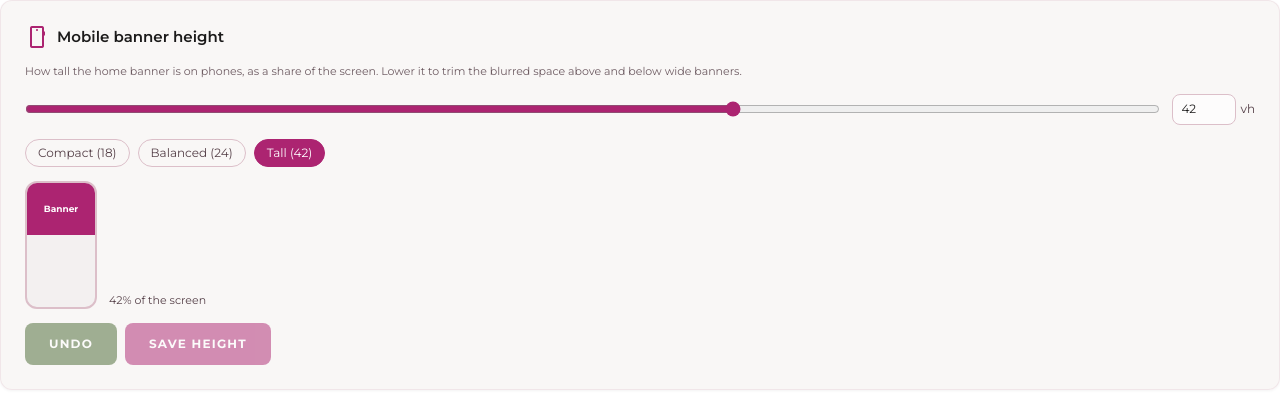
MobileHeroHeightCard › applies presets, clamps typed values and enables saving
The image size is (1280, 407).
Click the button "Compact (18)" at (77, 153), box left=25, top=139, right=130, bottom=167
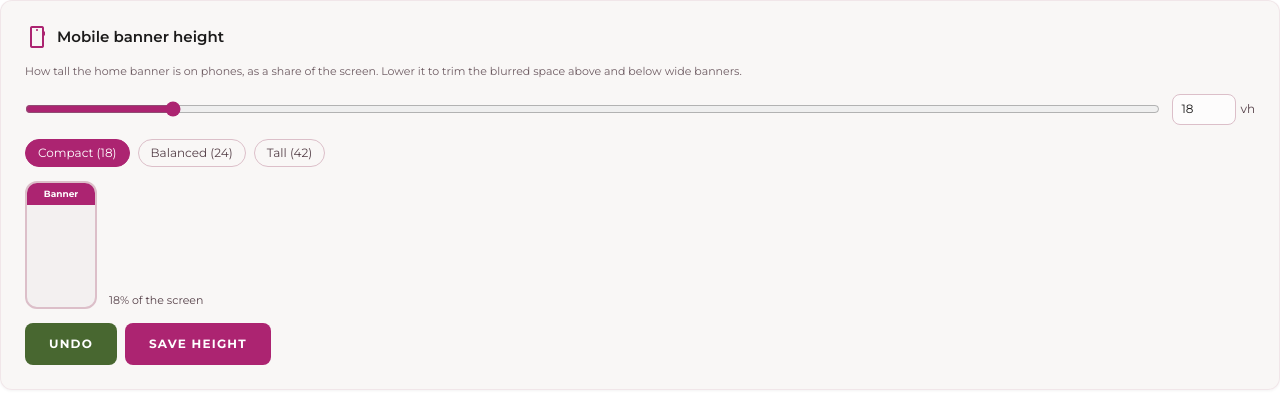
Expected: the number field named "Mobile banner height value" holds "18"
Replace the text in the number field named "Mobile banner height value" with "2" at (1204, 109), box left=1172, top=94, right=1236, bottom=125
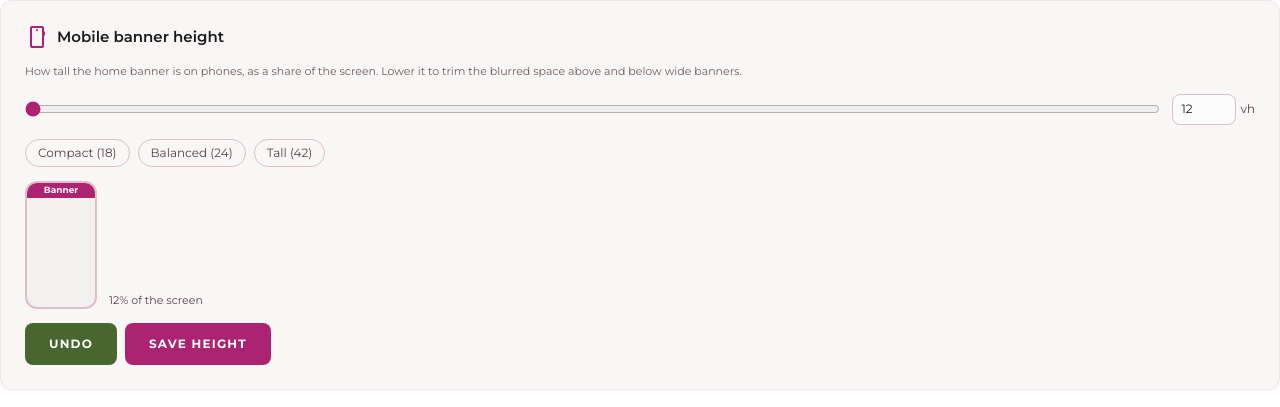
Expected: the button "Save height" is enabled, left=125, top=323, right=271, bottom=365
Expected: the number field named "Mobile banner height value" holds "12", left=1172, top=94, right=1236, bottom=125
